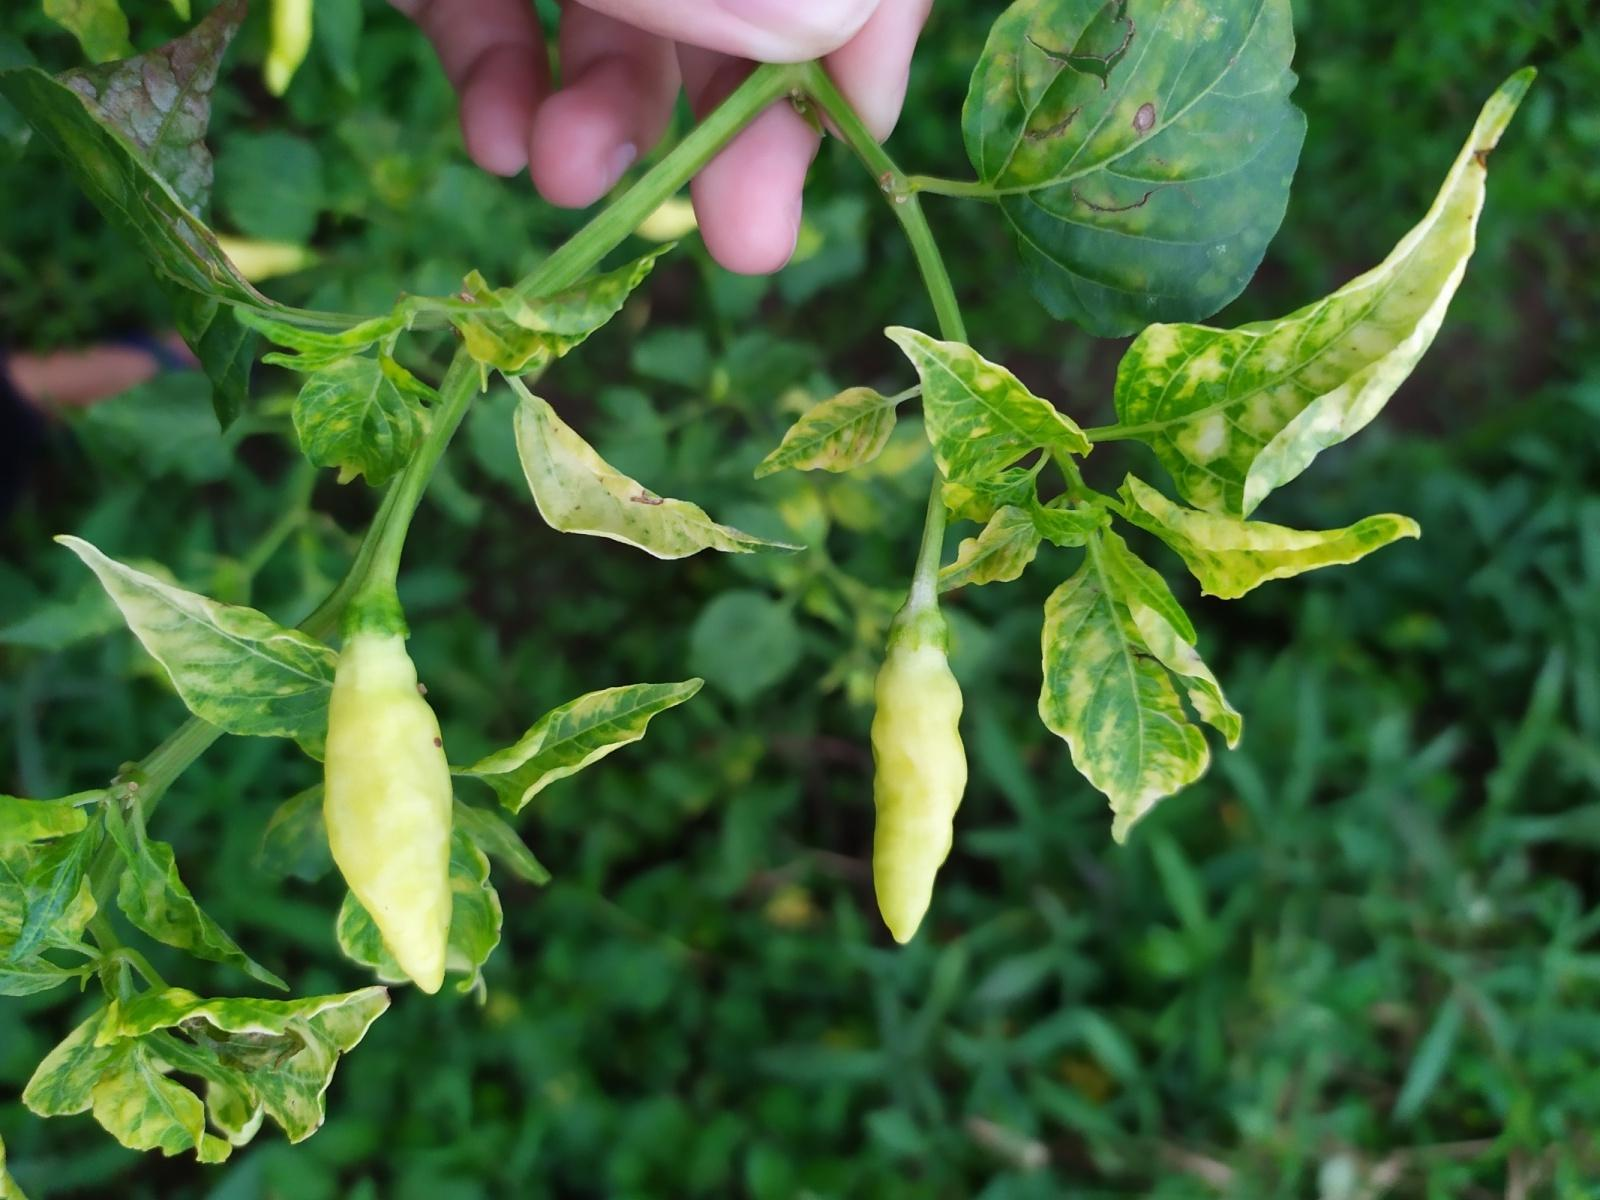cabai_normal: (321, 624, 454, 998), (871, 616, 969, 947)
